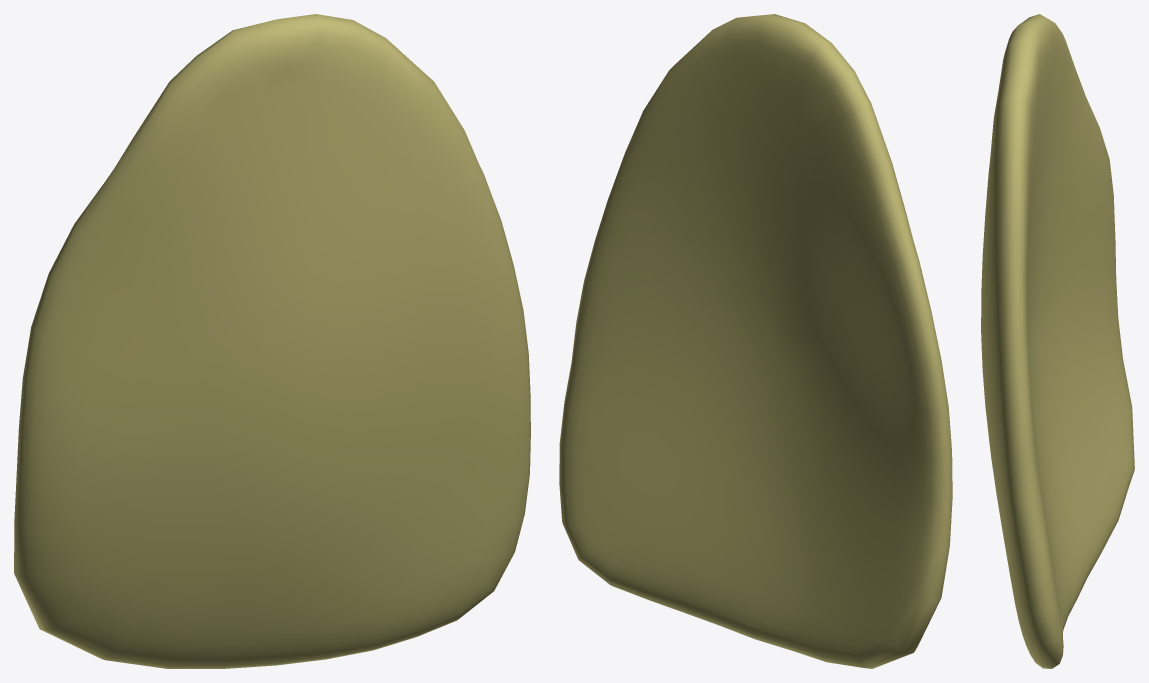
Rendered from TL1_Enamel_Diamond.001.glb.
3 views of the same model, side by side, from view 1: azimuth 30°, elevation 25°; view 2: azimuth 150°, elevation 25°; view 3: azimuth 270°, elevation 25° (orthographic). The views are drawn at different scales.
Visible parts, largest first — view 1: TL1_Enamel_Diamond.001; view 2: TL1_Enamel_Diamond.001; view 3: TL1_Enamel_Diamond.001.
Part boxes in pixels (x1,y1,x2,y2): TL1_Enamel_Diamond.001: [14, 14, 530, 668]; TL1_Enamel_Diamond.001: [559, 14, 952, 668]; TL1_Enamel_Diamond.001: [981, 14, 1134, 668].
Size of the model in its own units: 0.755 by 1.03 by 0.2484.
